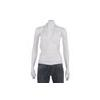canottiera: (37, 25, 62, 66)
